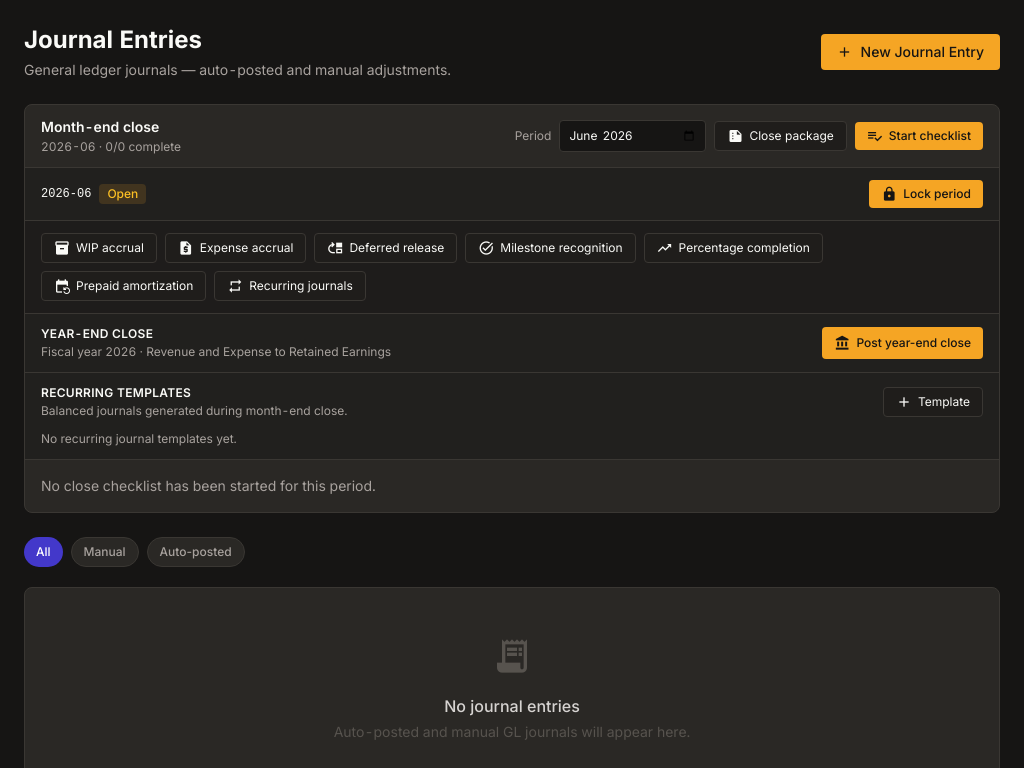
it: JournalEntriesListComponent close period › cancels a pending period confirmation when the selected month changes
The width and height of the screenshot is (1024, 768).
Click the button "Lock period": (926,194) [869, 180, 983, 208]
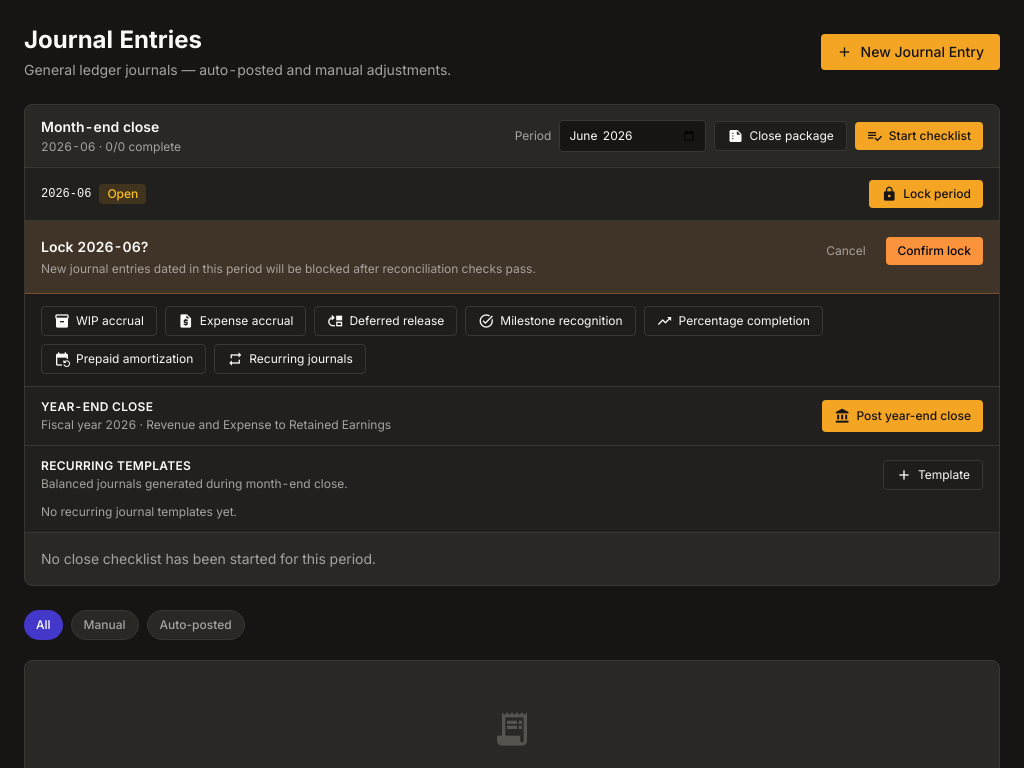
Check: the dialog is shown, box [25, 221, 999, 294]
Replace the text in the field named "Close period" with "2026-05": (633,136) [559, 120, 706, 152]
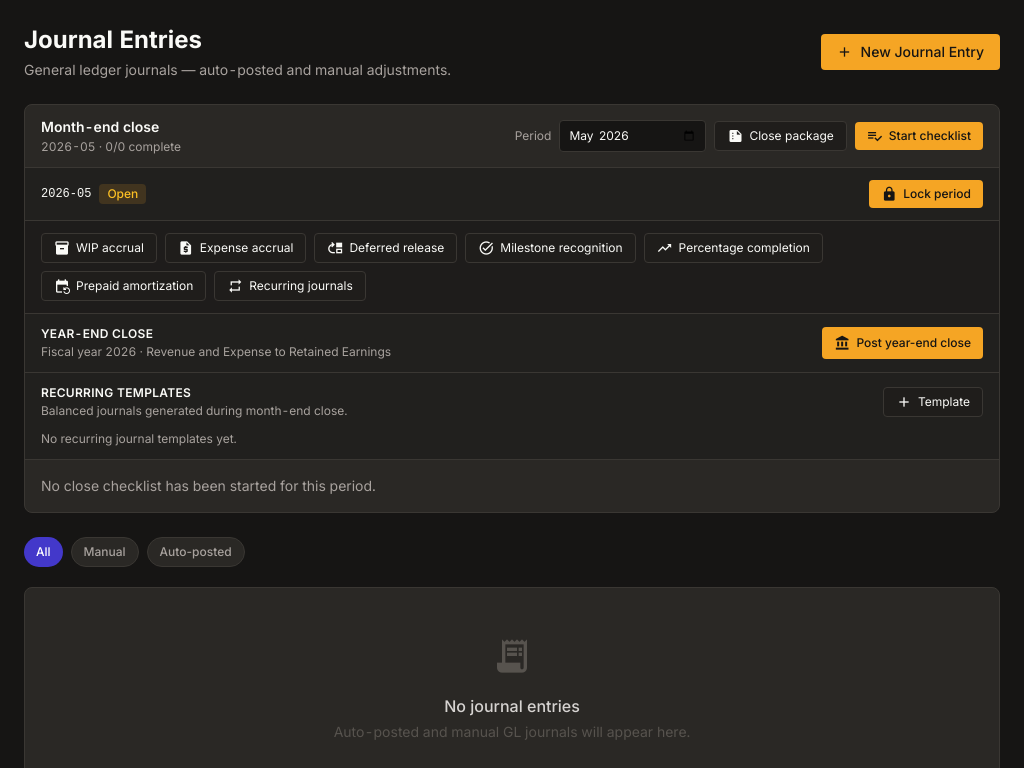
Check: the dialog is gone
Check: the element named "Period close status" shows "2026-05", box [41, 187, 91, 201]
